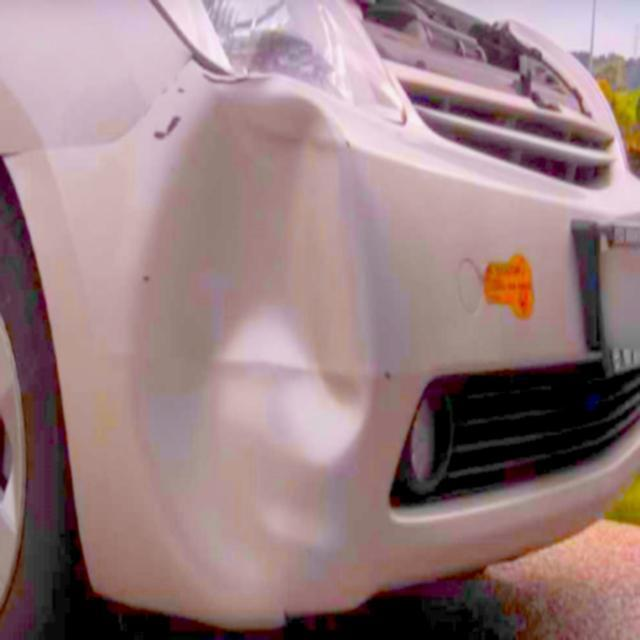minor: (117, 73, 376, 616)
